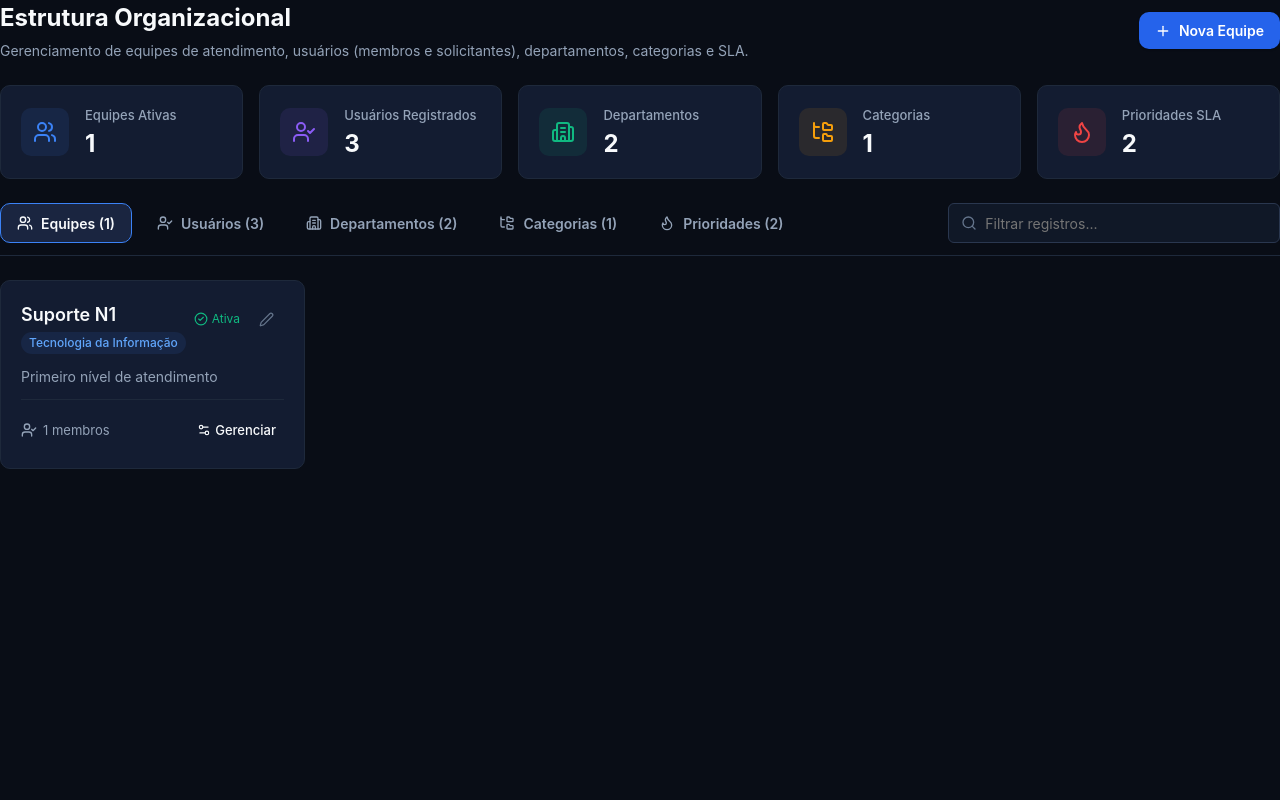
Scenario: TeamsPage Component › opens category creation modal when clicking Nova Categoria on categories tab
Click the button "Categorias (1)": (558, 223) [482,203,634,243]
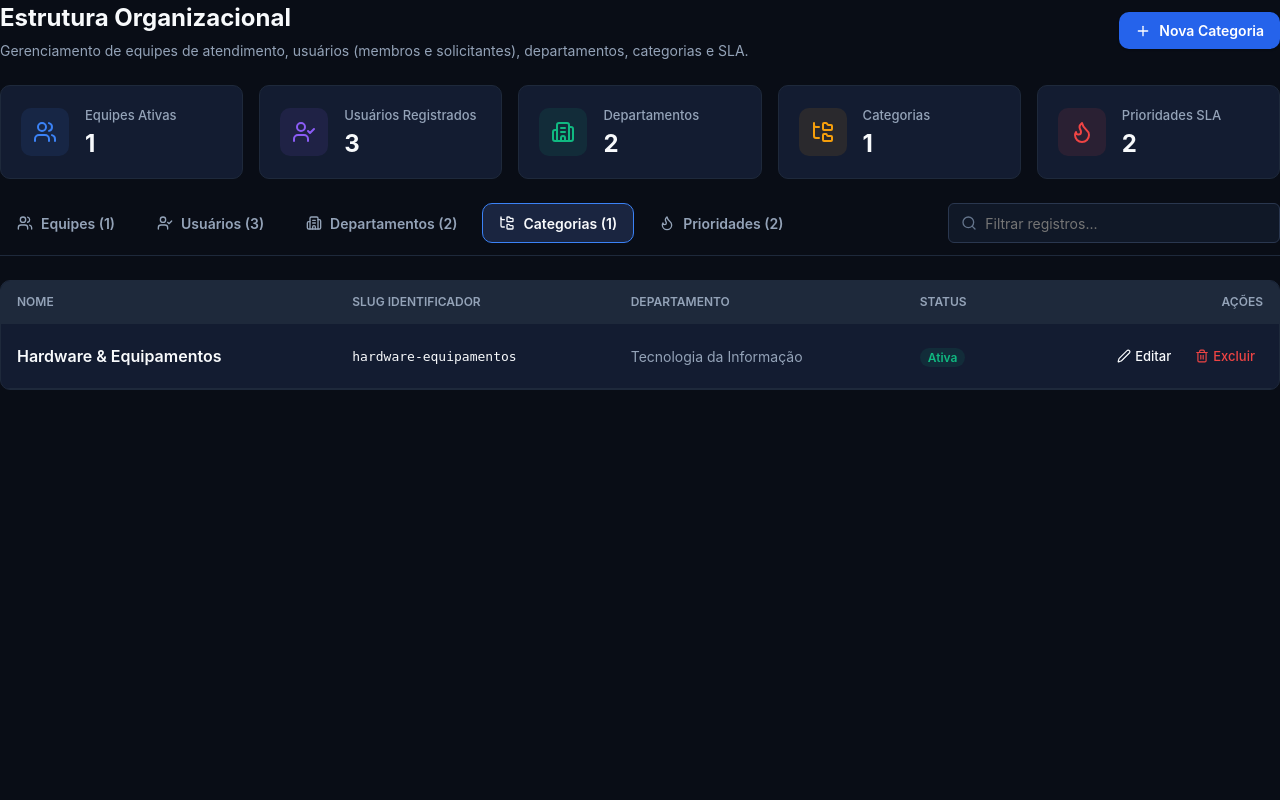
Click the button "Nova Categoria": (1200, 30) [1119,12,1279,49]
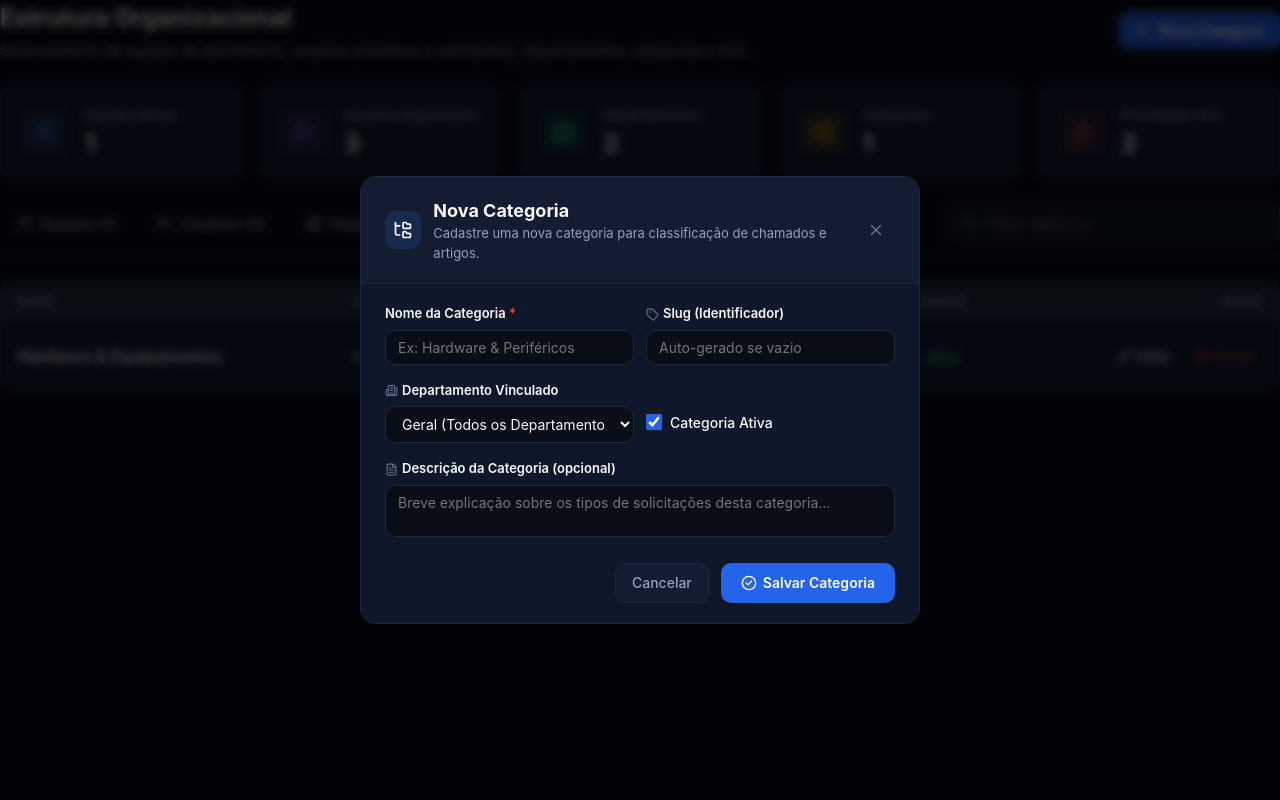
Now the heading "Nova Categoria" is shown, box [433,200,569,221]
Now the field with placeholder "Ex: Hardware & Periféricos" is shown, box [385,330,634,365]
